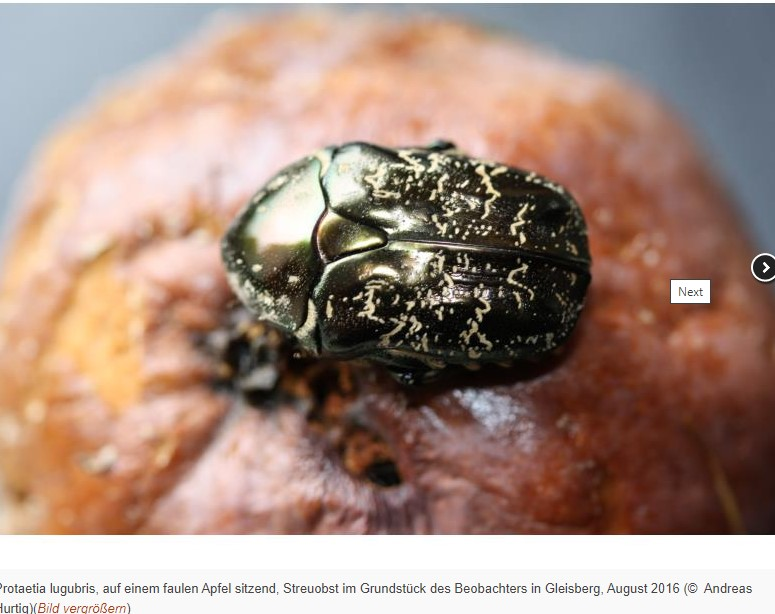Protaetia_lugubris: (208, 130, 595, 419)
